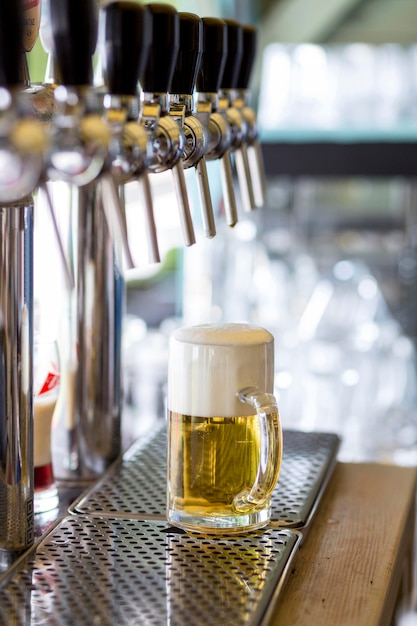alcohol: (171, 322, 282, 536), (17, 340, 71, 520)
